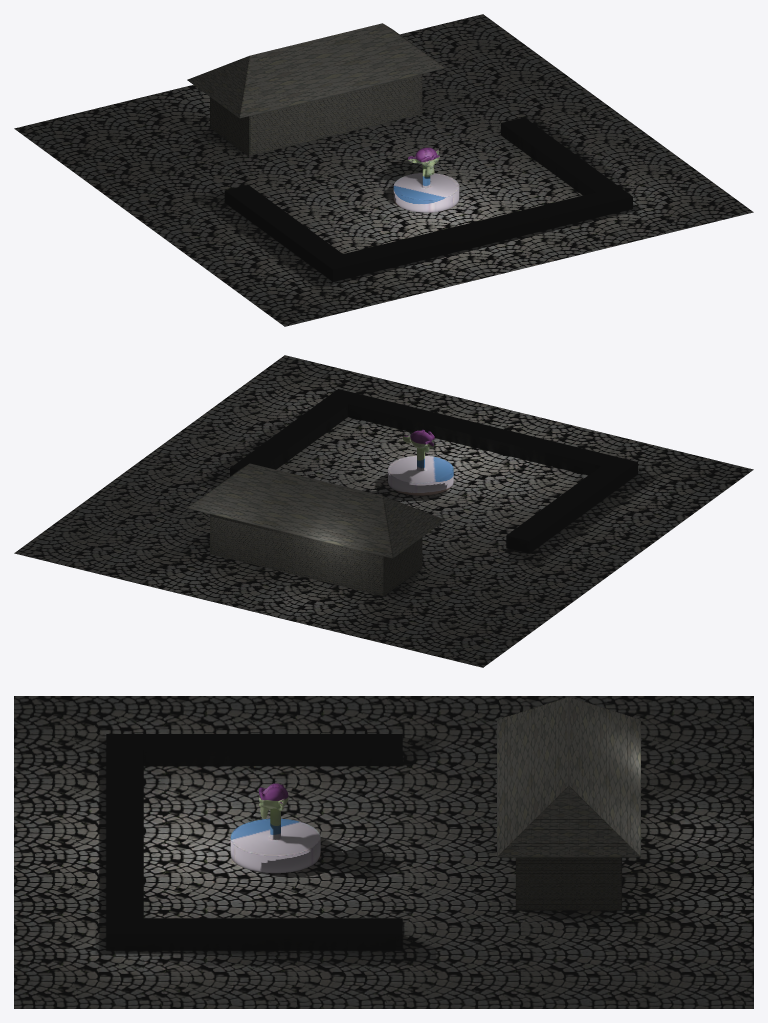
Rendered from sample_level_using_baked_texture.gltf.
3 views of the same model, one above another, from view 1: azimuth 30°, elevation 25°; view 2: azimuth 150°, elevation 25°; view 3: azimuth 270°, elevation 25° (orthographic). The views are drawn at different scales.
Parts seen in each view (by area): view 1: Plane.001; view 2: Plane.001; view 3: Plane.001.
Boxes of the visible parts, x1,y1,x2,y2 form: Plane.001: (14,14,753,326); Plane.001: (14,355,753,667); Plane.001: (14,696,753,1008).
Bounding box in the file's own units: 40 × 7.64 × 40.
Materials: 1 (1 with a texture image).
